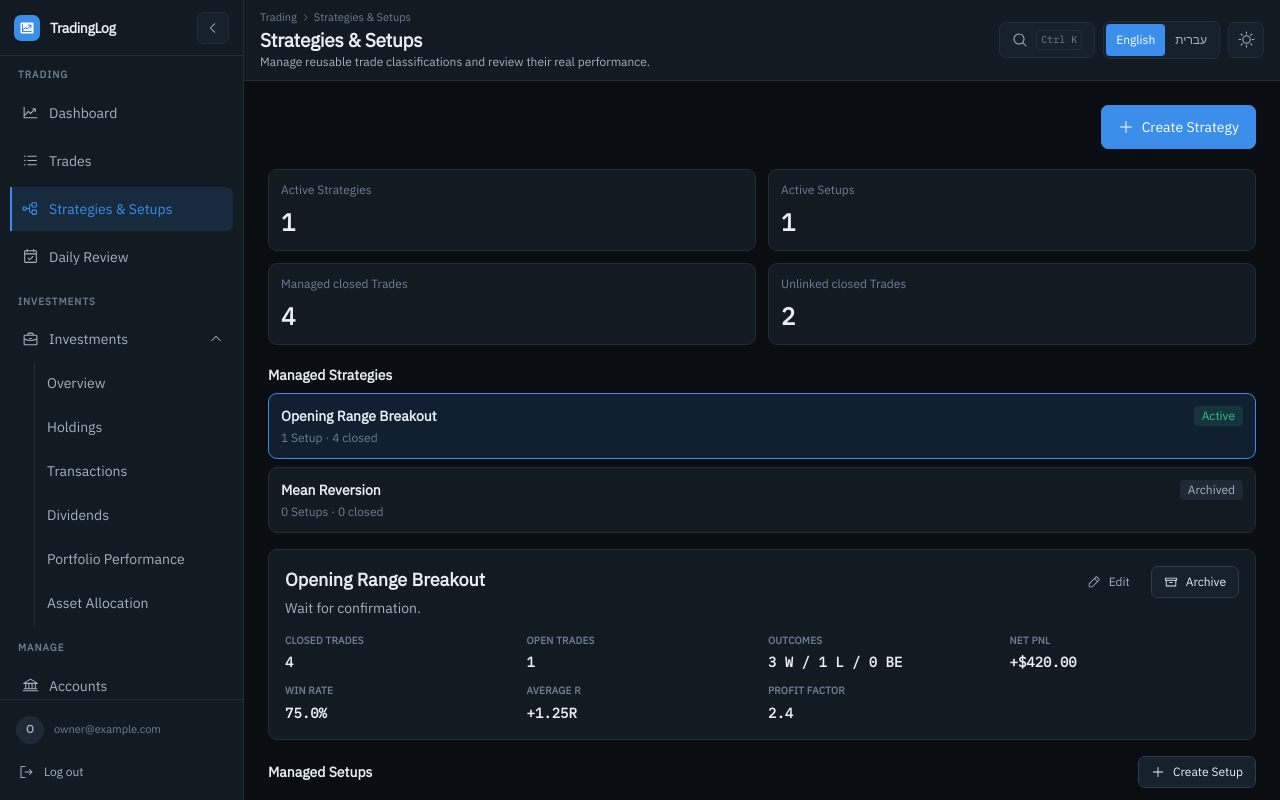
it: Strategies & Setups page › selects a Strategy, shows its owned Setups, and archives without unlinking UI data
Click the button "Opening Range Breakout Active 1 Setup · 4 closed": [359, 416] box [268, 393, 1256, 459]
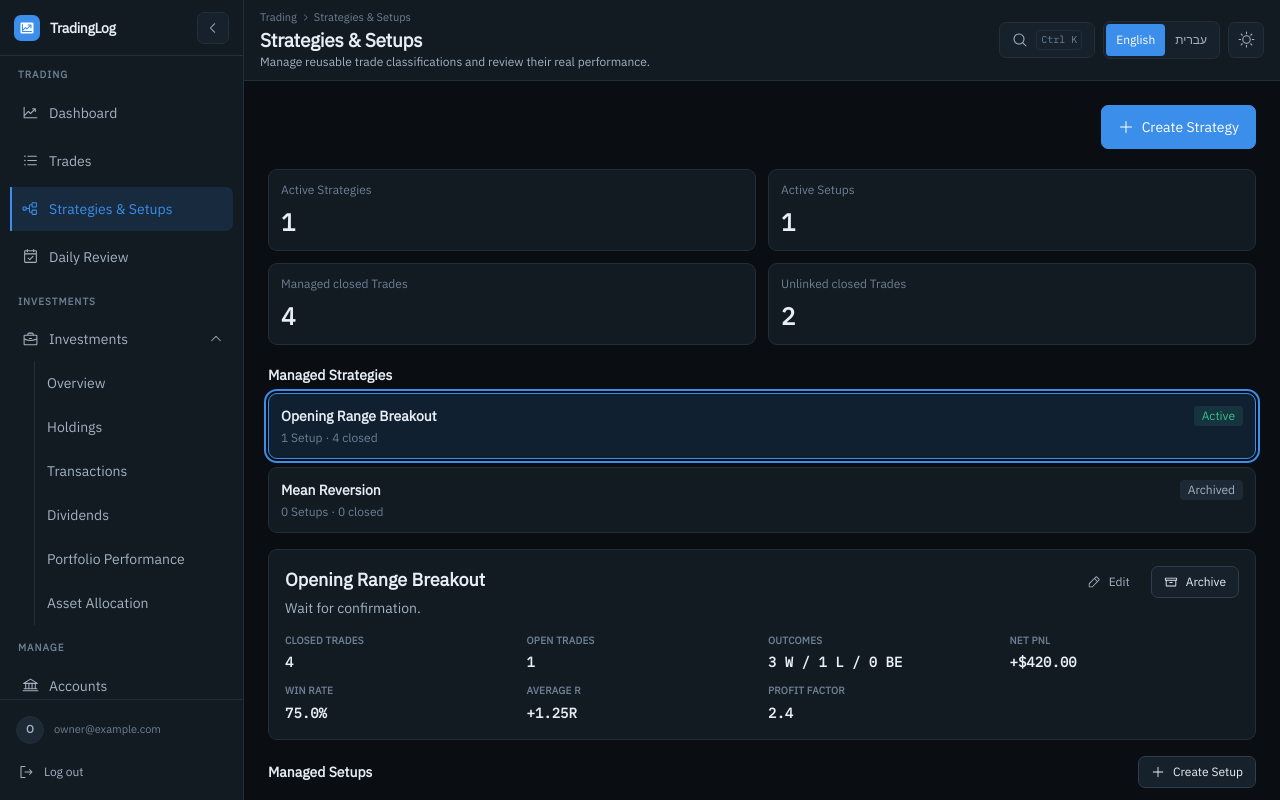
Click the button "Archive": [1195, 582] box [1151, 566, 1239, 598]
(page scrolled)
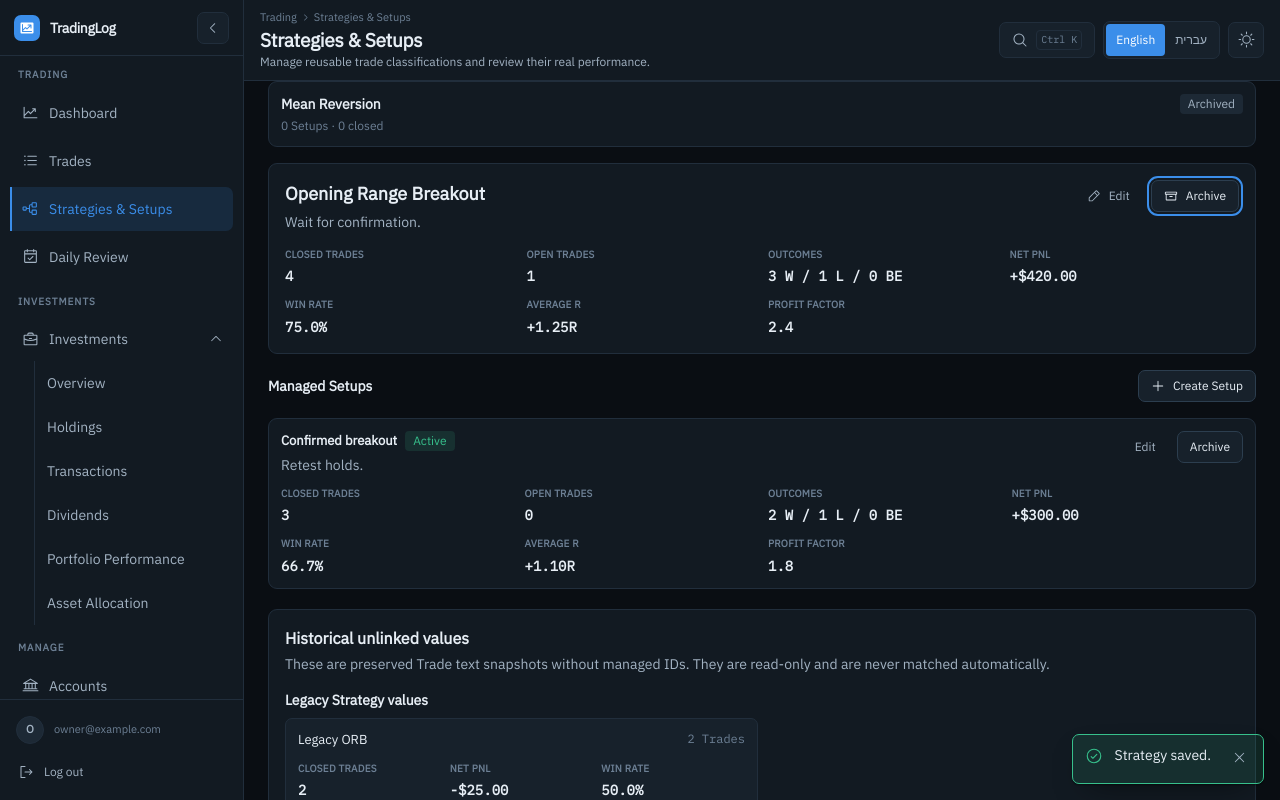
Result: the heading "Confirmed breakout" is shown at [281, 432, 397, 450]
